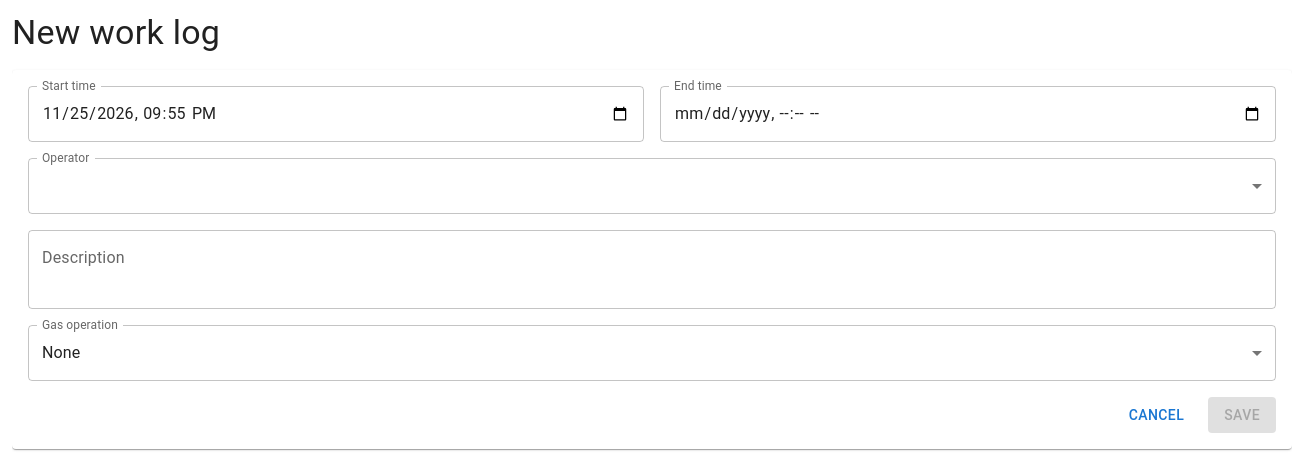
it: WorkLogPage › requires an operator before creating an entry
Expected: the button "Save" is disabled, [1208,397,1276,434]
Press the mouse on the dropdown named "Operator" at (652, 186), box [28,158,1276,214]
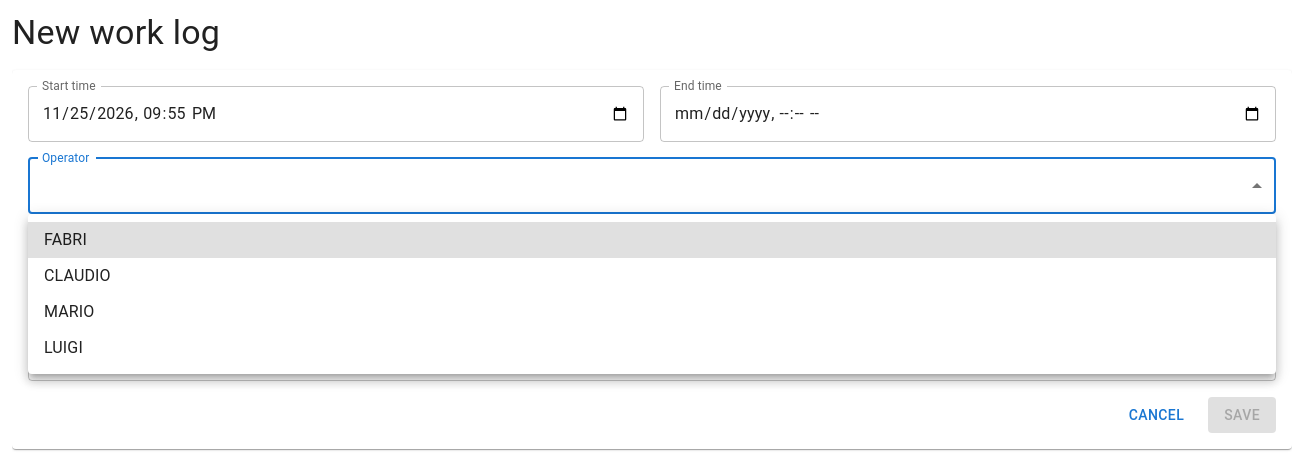
Click the option "FABRI" at (65, 240), box [28,222,1276,258]
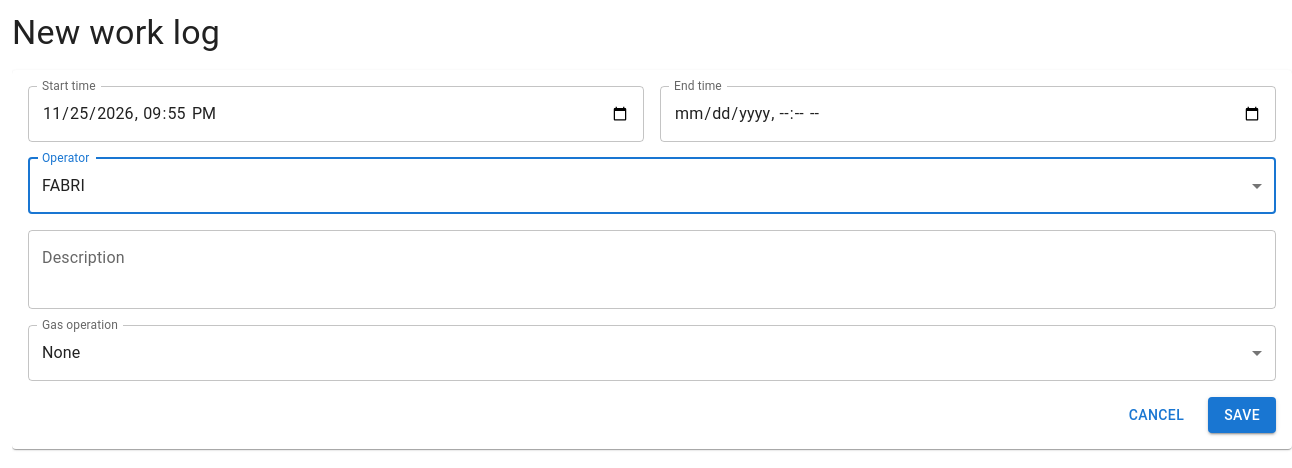
Expected: the button "Save" is enabled, [1208,397,1276,434]
